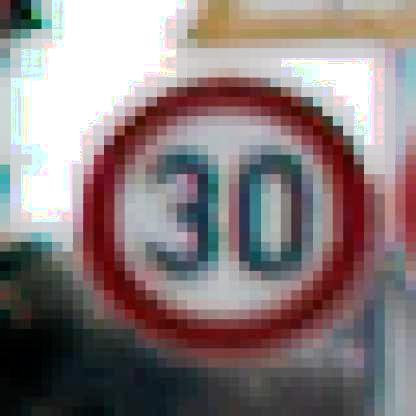Speed Limit -30-: (74, 68, 381, 369)
